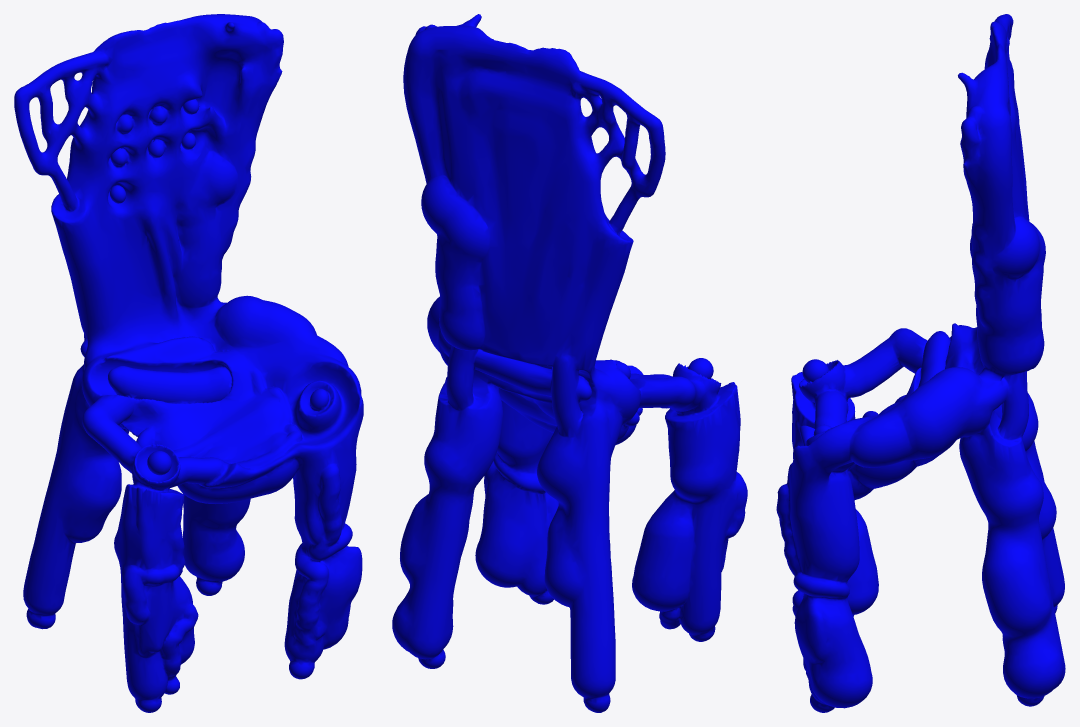
Rendered from chair-web.glb.
3 views of the same model, side by side, from view 1: azimuth 30°, elevation 25°; view 2: azimuth 150°, elevation 25°; view 3: azimuth 270°, elevation 25° (orthographic). The views are drawn at different scales.
Parts seen in each view (by area): view 1: Layer_1; view 2: Layer_1; view 3: Layer_1.
Part boxes in pixels (x1=…): Layer_1: x1=14, y1=14, x2=363, y2=712; Layer_1: x1=392, y1=14, x2=747, y2=712; Layer_1: x1=776, y1=14, x2=1065, y2=712.
Bounding box in the file's own units: 1.32 × 2.87 × 1.18.
